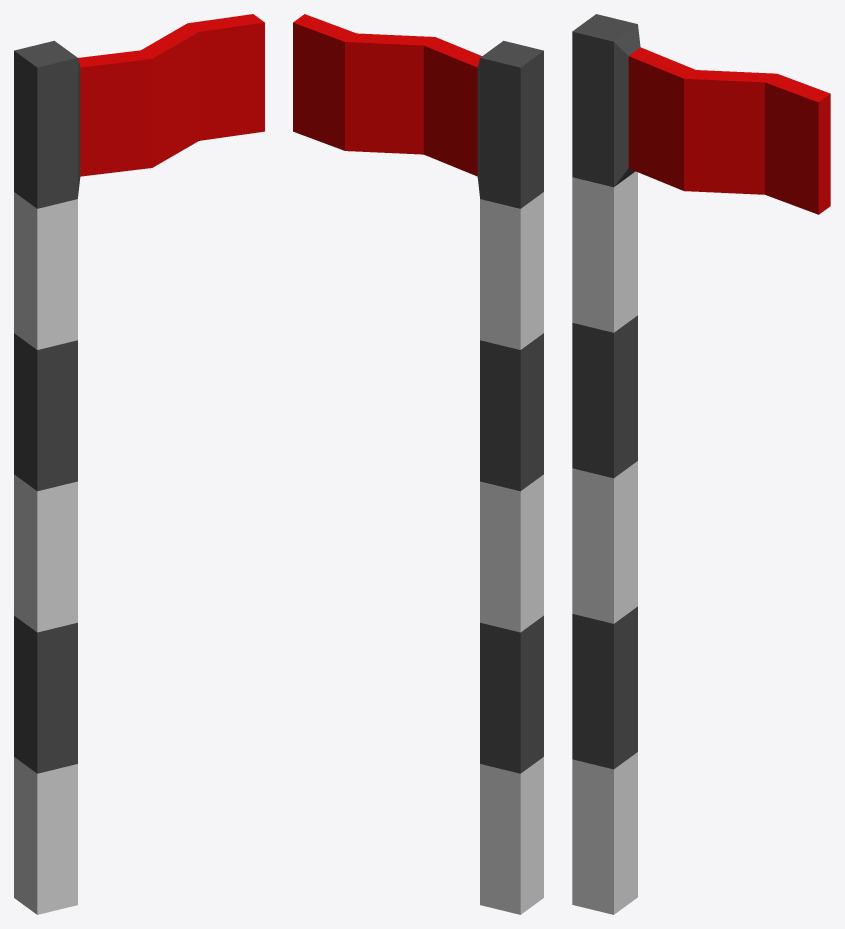
Rendered from flag.fbx.
3 views of the same model, side by side, from view 1: azimuth 30°, elevation 25°; view 2: azimuth 150°, elevation 25°; view 3: azimuth 330°, elevation 25° (orthographic). The views are drawn at different scales.
Visible parts, largest first — view 1: Cube; view 2: Cube; view 3: Cube.
Part boxes in pixels (bbox=[...]): Cube: bbox=[14, 14, 264, 914]; Cube: bbox=[293, 14, 543, 914]; Cube: bbox=[572, 14, 830, 914].
Bounding box in the file's own units: 115 × 400 × 23.7.
